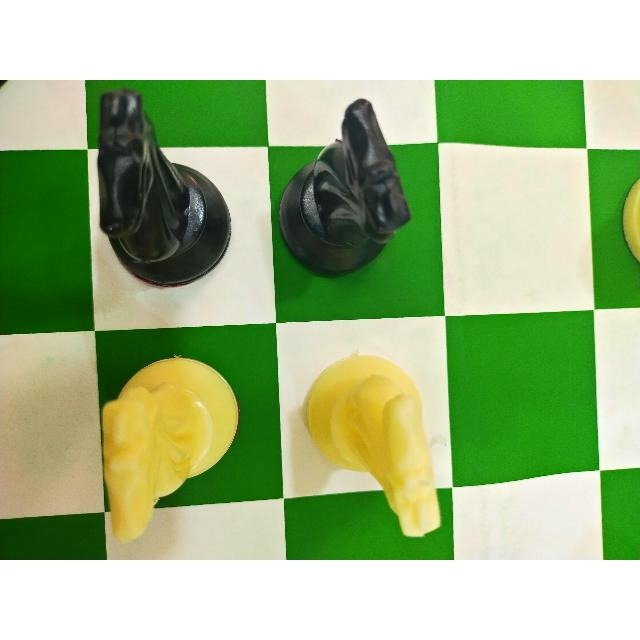black-knight: (89, 85, 236, 289), (276, 93, 416, 282)
white-knight: (296, 346, 448, 540), (96, 350, 243, 547)
